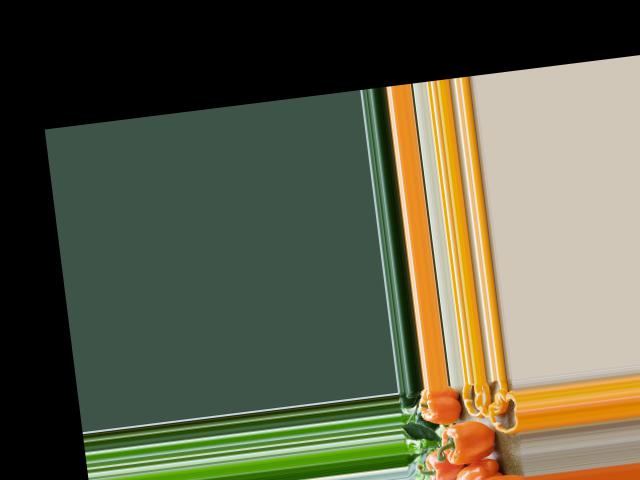bell_pepper: (452, 457, 505, 480)
